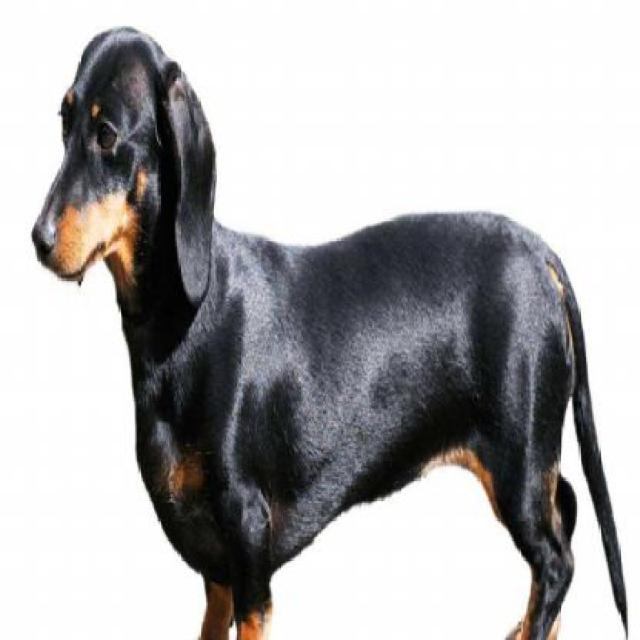Dog: (32, 24, 634, 638)
